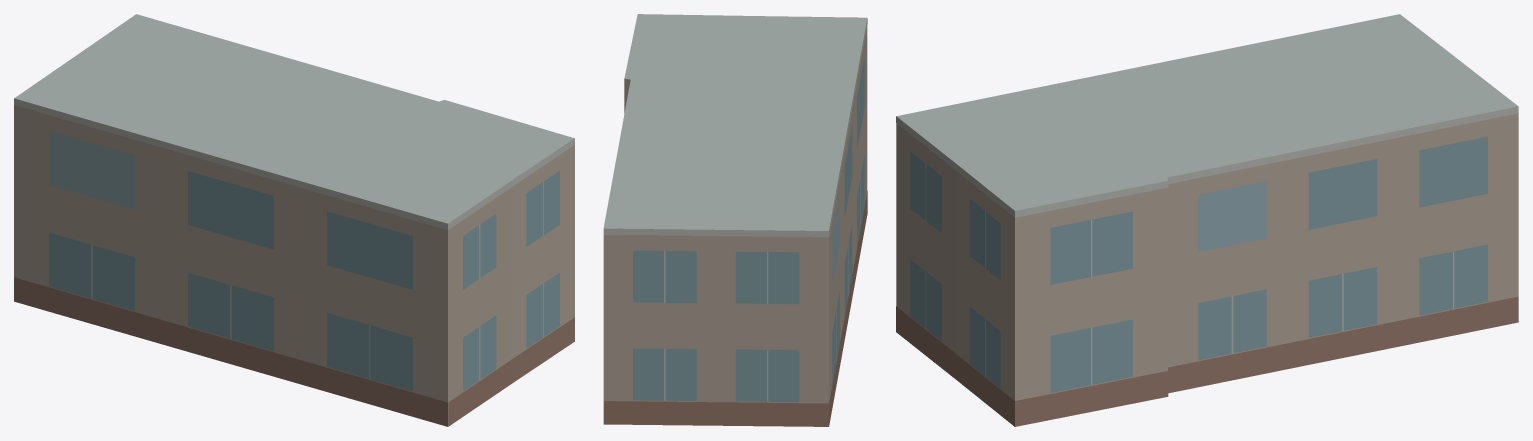
File: survey-upis-32675196.glb
The picture shows the model from 3 angles, left to right: view 1: azimuth 30°, elevation 25°; view 2: azimuth 150°, elevation 25°; view 3: azimuth 270°, elevation 25°; orthographic projection. The views are drawn at different scales.
Visible parts, largest first — view 1: survey-upis-32675196.tmp; view 2: survey-upis-32675196.tmp; view 3: survey-upis-32675196.tmp.
Part boxes in pixels (bbox=[...]): survey-upis-32675196.tmp: bbox=[14, 14, 574, 426]; survey-upis-32675196.tmp: bbox=[603, 14, 867, 426]; survey-upis-32675196.tmp: bbox=[896, 14, 1518, 426].
Size of the model in its own units: 14.87 by 7.6 by 19.86.
